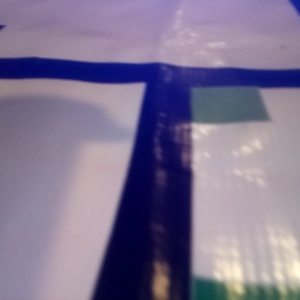bottom_right: (1, 72, 66, 138), (196, 3, 270, 34)
top_left: (159, 212, 300, 300), (147, 50, 234, 98)
